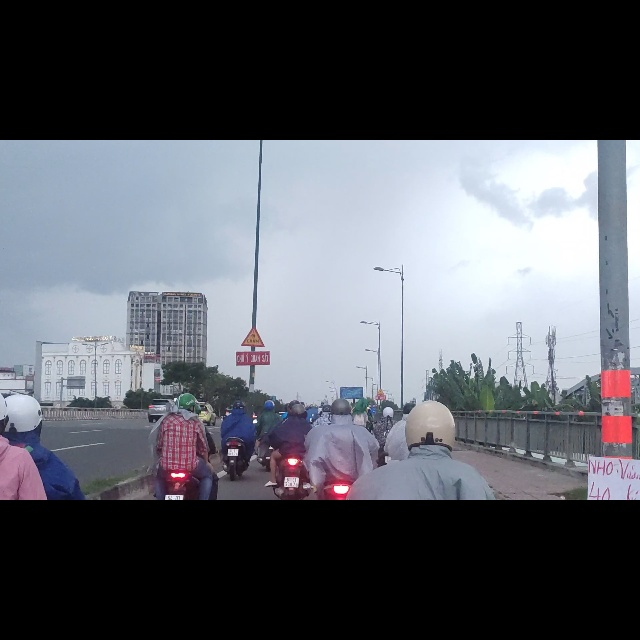bien_chi_dan: (240, 329, 265, 367)
